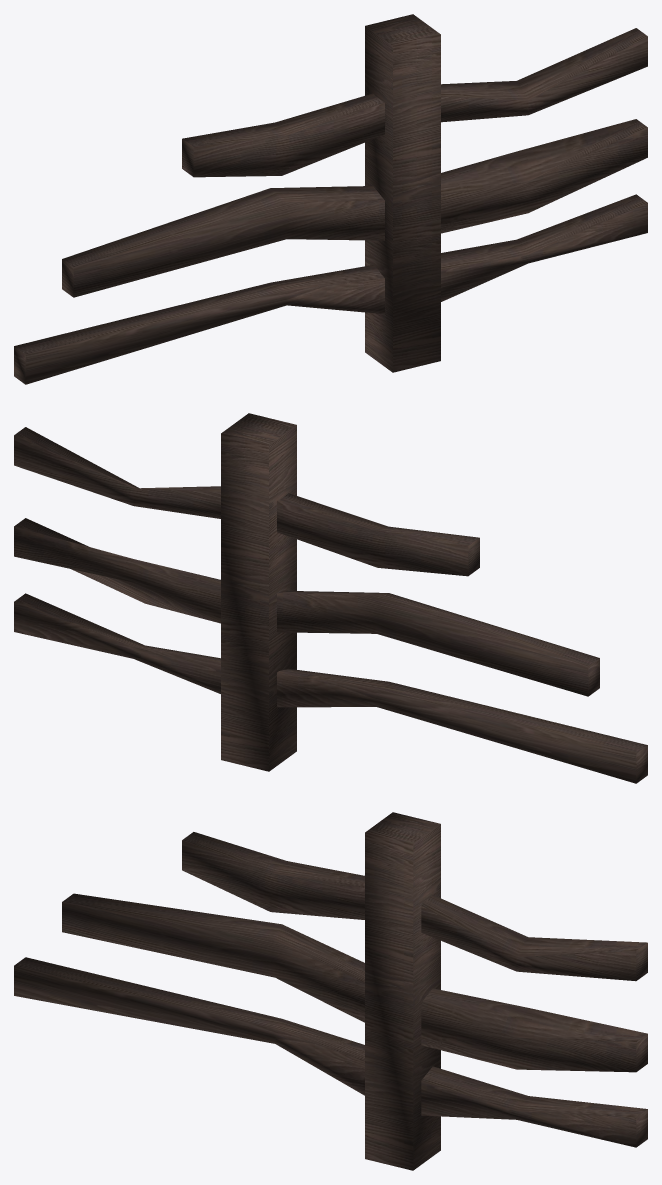
3 views of the same model, one above another, from view 1: azimuth 30°, elevation 25°; view 2: azimuth 150°, elevation 25°; view 3: azimuth 330°, elevation 25° (orthographic).
Parts seen in each view (by area): view 1: Cube172_Wood_02003_0; view 2: Cube172_Wood_02003_0; view 3: Cube172_Wood_02003_0.
Part boxes in pixels (box(x1,y1,x2,y2)): Cube172_Wood_02003_0: box(14, 14, 647, 384); Cube172_Wood_02003_0: box(14, 413, 647, 783); Cube172_Wood_02003_0: box(14, 812, 647, 1170).
Bounding box in the file's own units: 2.59 × 1.3 × 0.2.
Materials: 1 (1 with a texture image).
